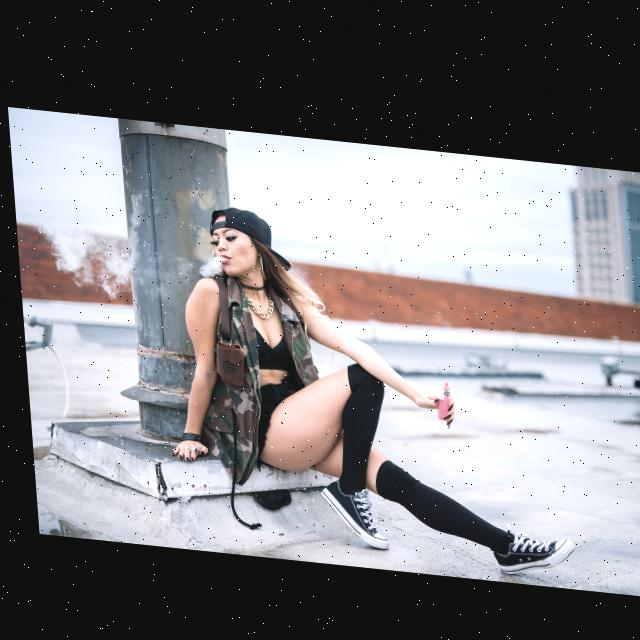vape: (430, 369, 446, 411)
